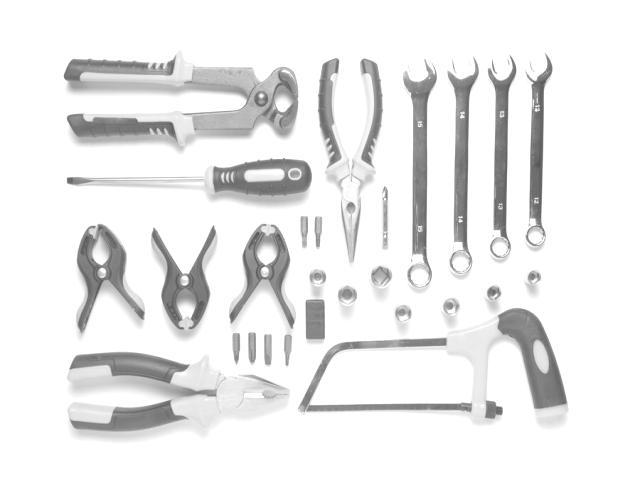Backsaw: (299, 309, 569, 418)
Needle-nose pliers: (319, 59, 382, 262)
Pliers: (68, 352, 289, 430)
Screwdriver: (66, 159, 311, 195)
Wrench: (402, 56, 436, 289), (448, 52, 479, 275), (488, 53, 516, 260), (525, 53, 552, 248)
